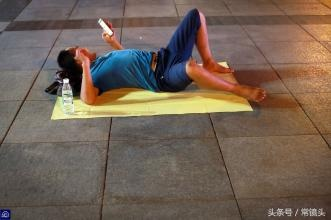falling: (49, 4, 273, 105)
